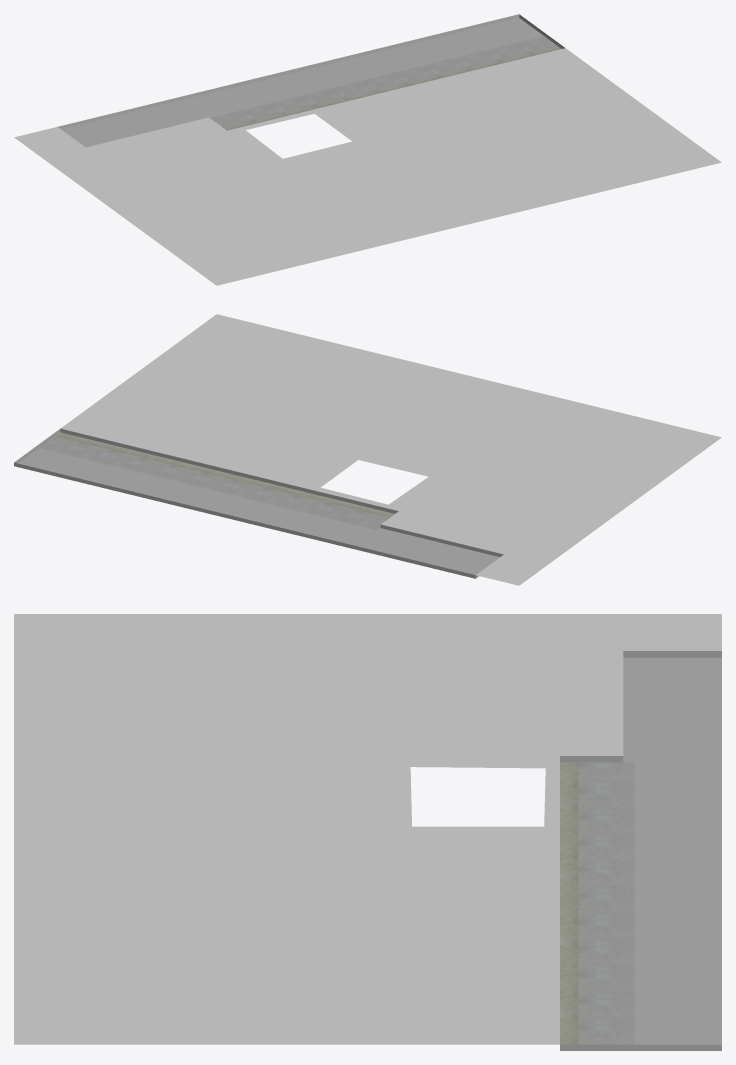
3 renders of one model, top to bottom at view 1: azimuth 30°, elevation 25°; view 2: azimuth 150°, elevation 25°; view 3: azimuth 270°, elevation 25°, orthographic. The views are drawn at different scales.
Visible parts, largest first — view 1: dimian; view 2: dimian; view 3: dimian.
Part boxes in pixels (x1,y1,x2,y2): dimian: (14,14,721,285); dimian: (14,314,721,585); dimian: (14,614,721,1050).
Size of the model in its own units: 9480 by 65.83 by 6589.
